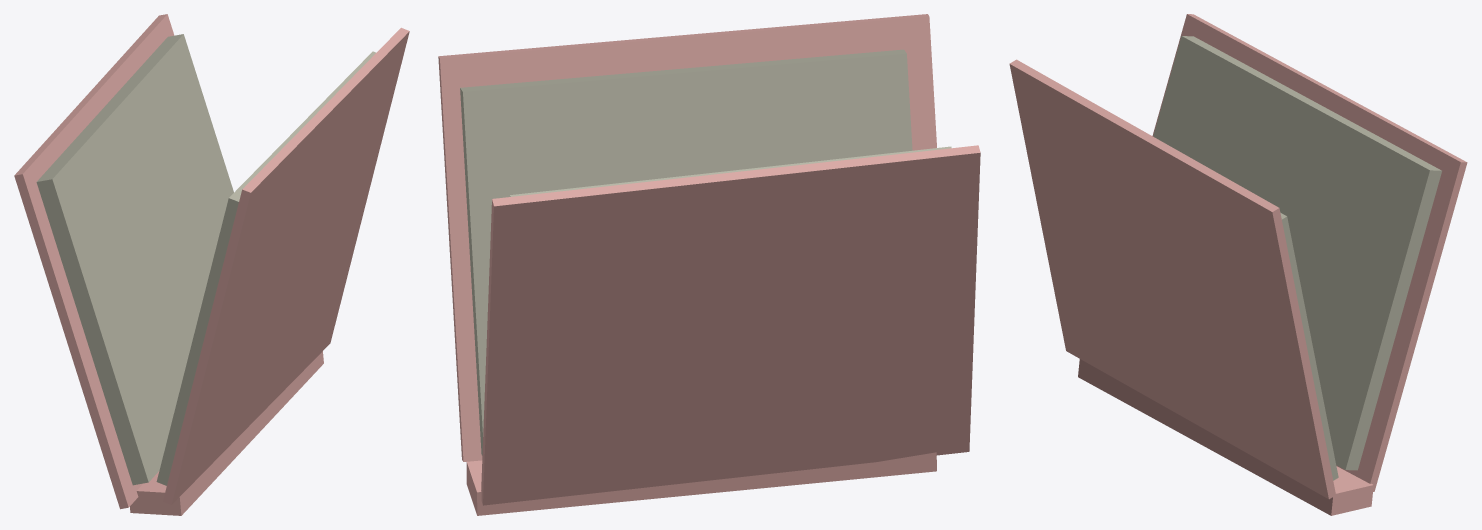
File: Book2.fbx
3 views of the same model, side by side, from view 1: azimuth 30°, elevation 25°; view 2: azimuth 150°, elevation 25°; view 3: azimuth 270°, elevation 25° (orthographic). The views are drawn at different scales.
Visible parts, largest first — view 1: Book5; view 2: Book5; view 3: Book5.
Boxes of the visible parts, box(x1,y1,x2,y2) form: Book5: box(14, 14, 409, 515); Book5: box(438, 14, 980, 515); Book5: box(1009, 14, 1467, 515).
Size of the model in its own units: 3.91 by 3.06 by 3.67.
